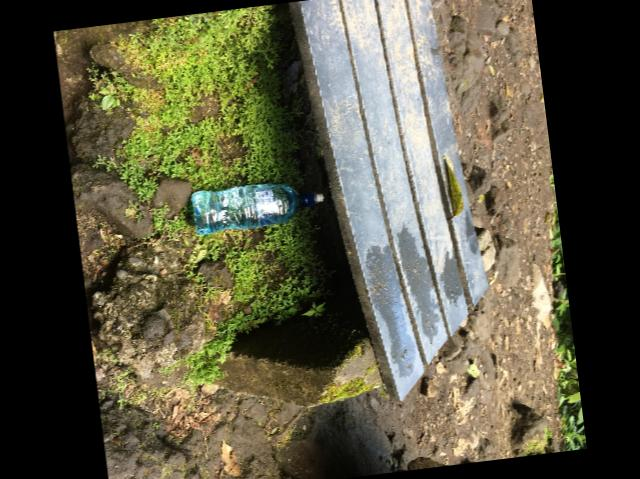plastic: (190, 183, 323, 234)
